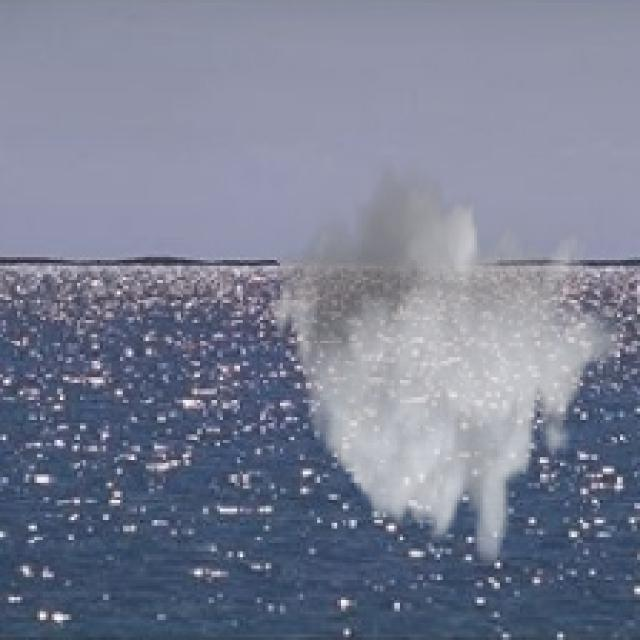Smoke: (268, 154, 626, 572)
